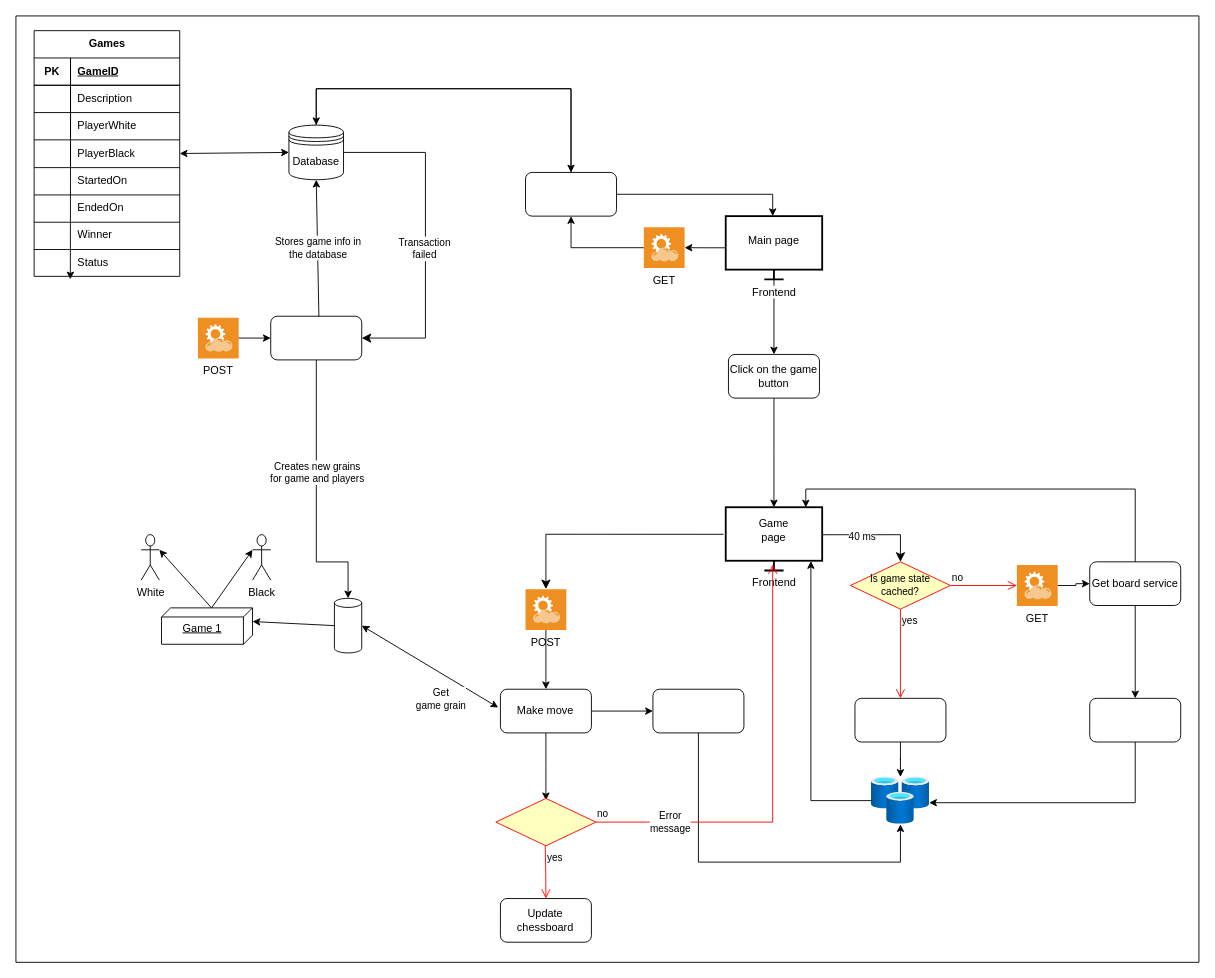
Image size: 1215x978. Some labels were removed from this diagram. The centre of each missing label's shape, as x and y in pixels:
Cache the state: [1135,719]
Get active games: [571,194]
get board state from redis cache: [900,719]
Invalidate cache for that game guid: [698,710]
Is move successful: [545,822]
Redis cache: [900,800]
Silo: [348,625]
Start new game: [316,337]
